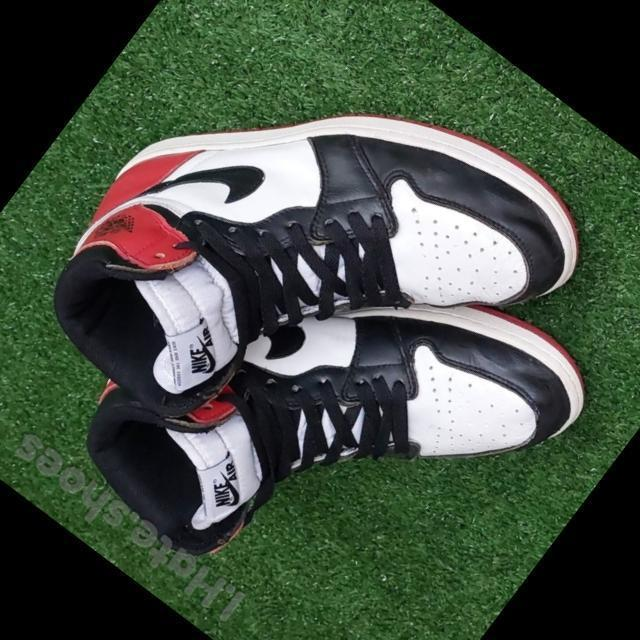nike fake jordan 1: (12, 0, 613, 568), (54, 138, 610, 640)
